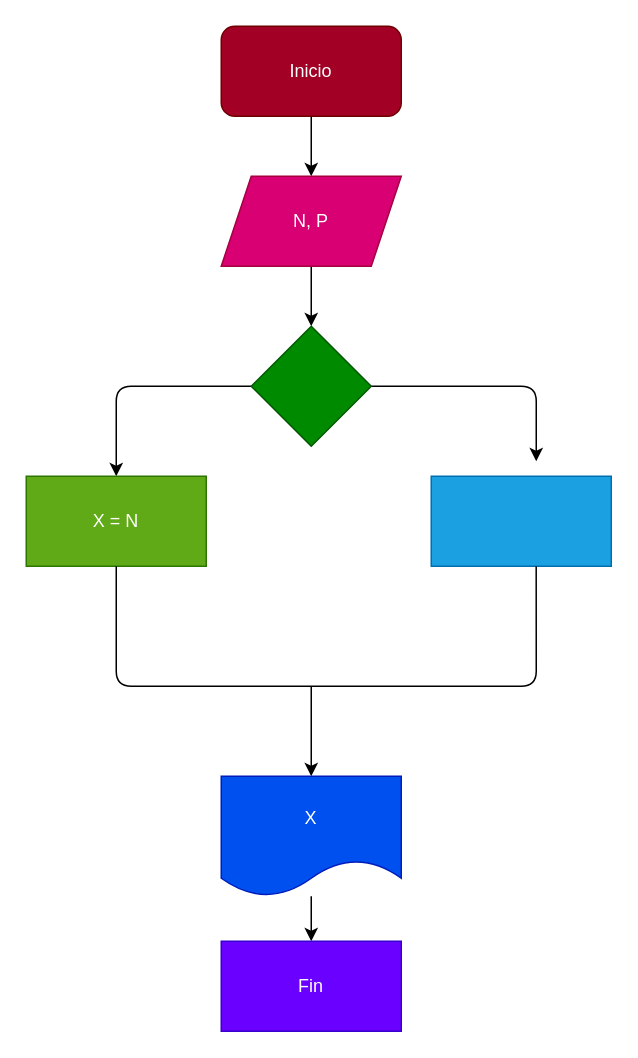
Image size: 638x1058. Some labels were removed from this diagram. The box of each missing label's shape, as (x1, y1, x2, y2) in pixels:
N > P: (250, 325, 371, 446)
X = P: (430, 475, 611, 566)
